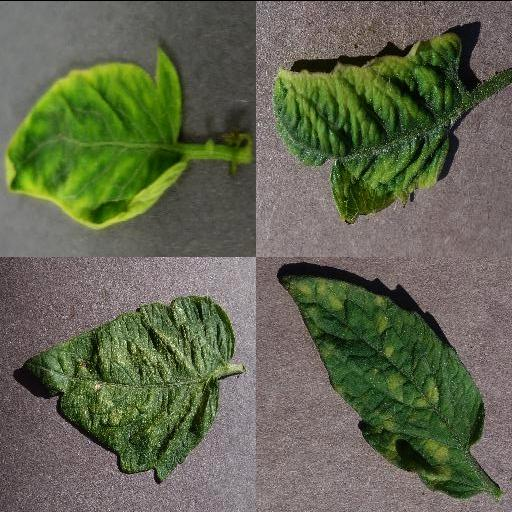Leaf Mold: (280, 271, 486, 497)
Spider Mites: (20, 294, 236, 480)
Yellow Leaf Curl Virus: (270, 32, 464, 224), (3, 48, 191, 227)
